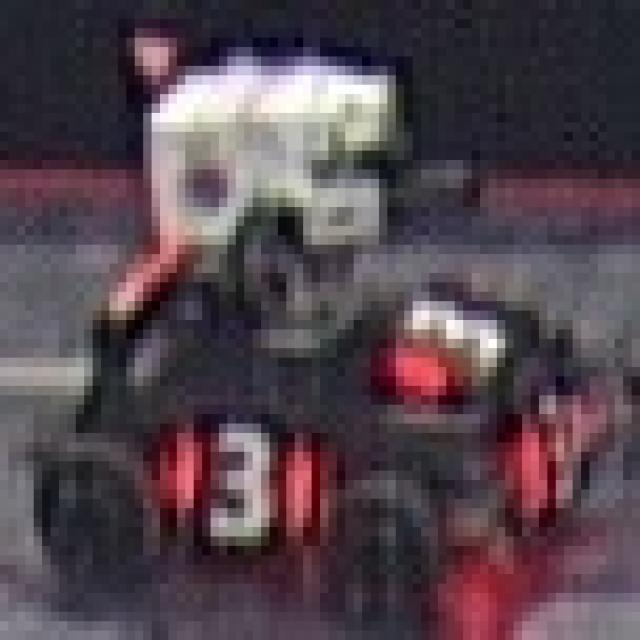R3: (354, 264, 522, 414), (160, 414, 328, 555)
